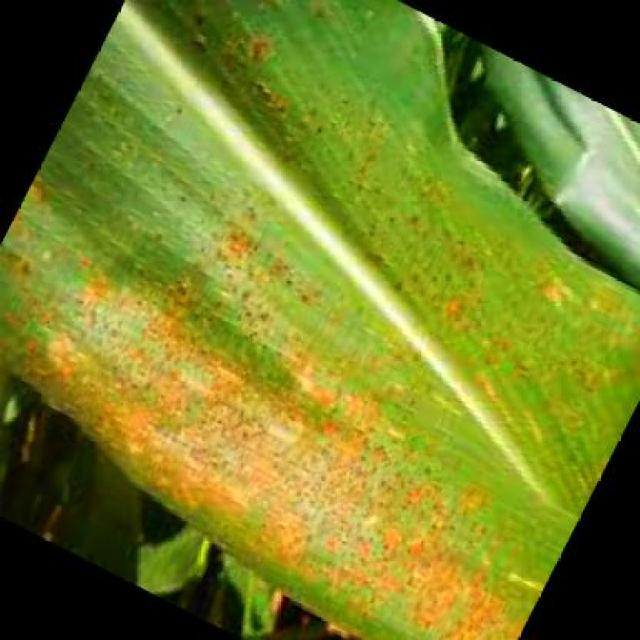Corn_Rust: (65, 112, 563, 548)
